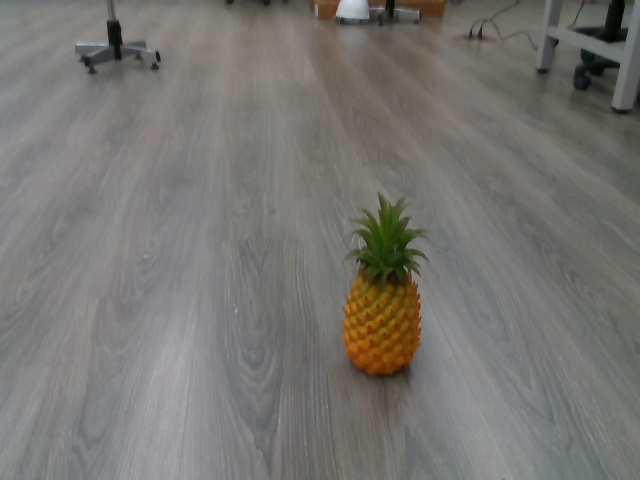pineapple: (338, 185, 435, 380)
